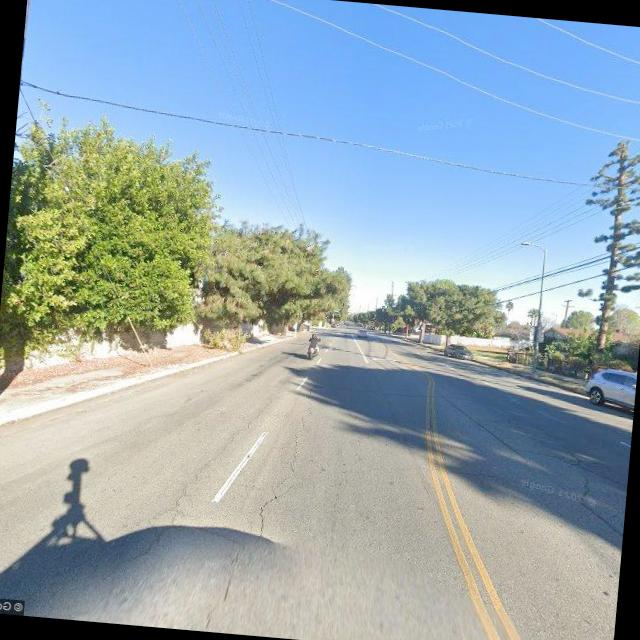pothole: (246, 380, 317, 574)
